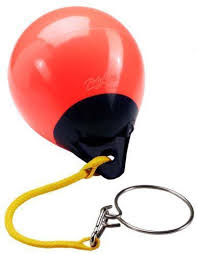buoy: (9, 7, 145, 153)
